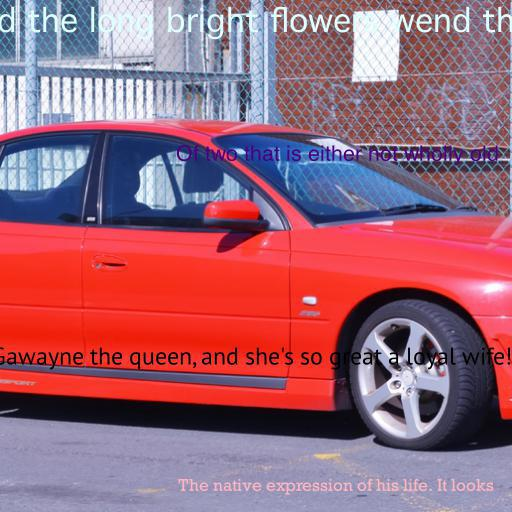Geneva: (0, 6, 512, 40)
Helvetica: (175, 145, 499, 166)
PT Sans: (0, 347, 512, 370)
Rockwell: (178, 478, 494, 495)
